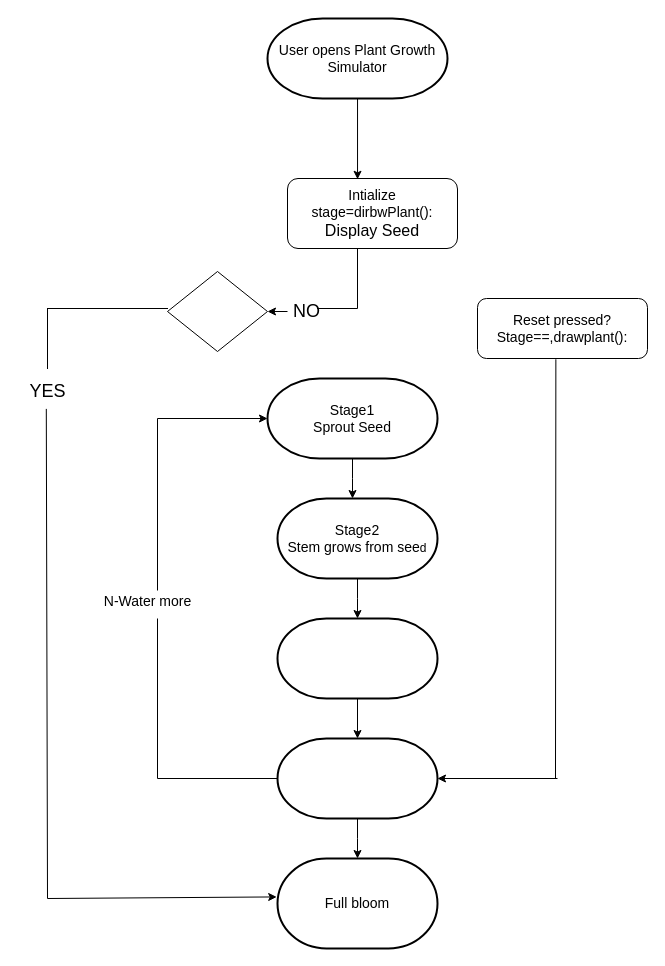
Image size: 665x966. Some labels were removed from this diagram. The centre of each missing label's shape, as x and y in pixels:
Button Clicked?: (217,311)
Stage3 Add leaves: (357,658)
Stage4 Flower booms tues: (357,778)
